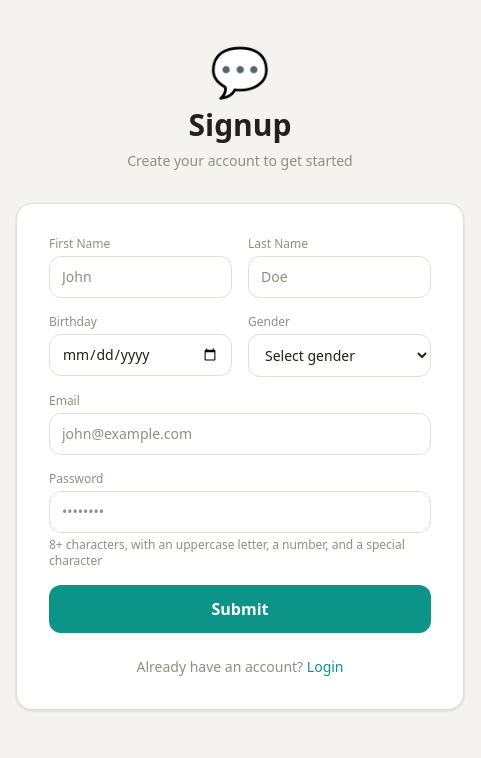
it: Signup page › shows validation errors when submitting an empty form
The width and height of the screenshot is (481, 758).
Click the button "Submit" at (240, 608), box [49,584,431,632]
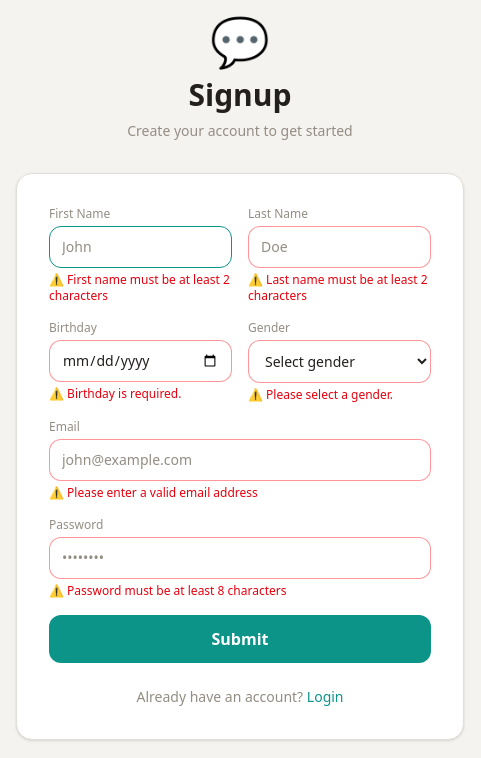
Check: the text "⚠️ First name must be at least 2 characters" is shown, box [49,272,232,304]
Check: the text "⚠️ Last name must be at least 2 characters" is shown, box [248,272,431,304]
Check: the text "⚠️ Birthday is required." is shown, box [49,384,182,402]
